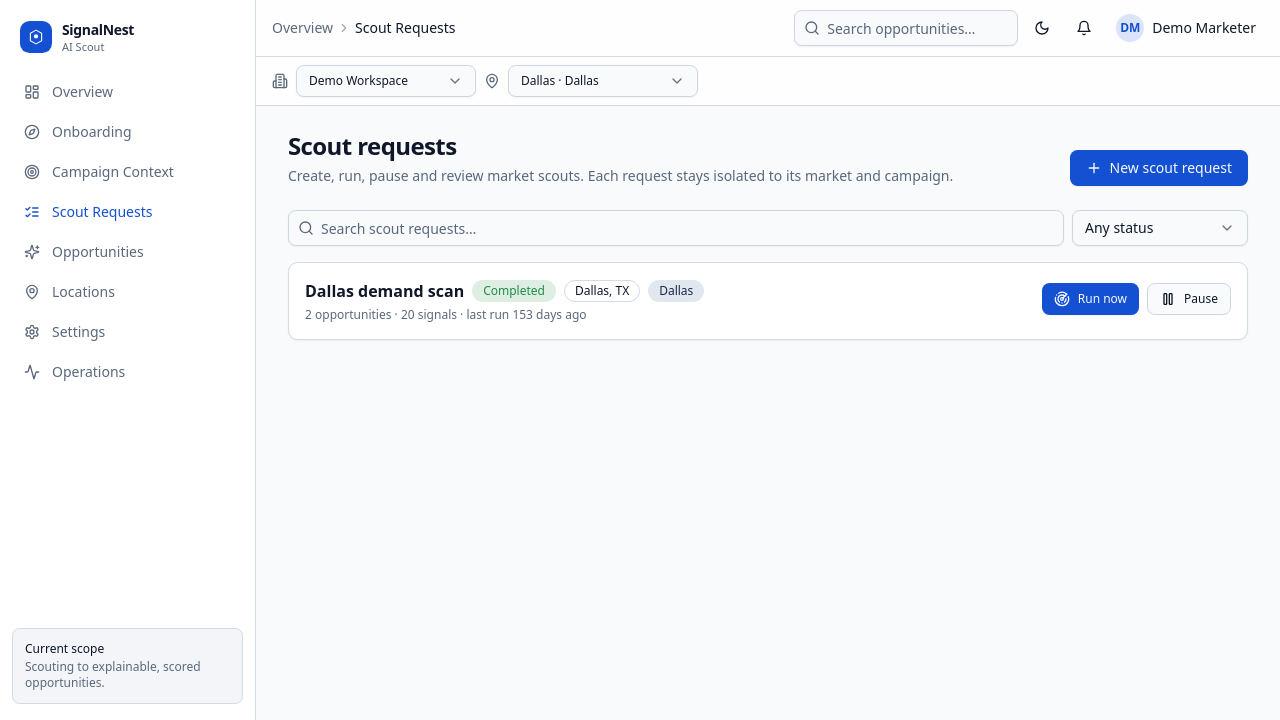
Test case: scout requests › runs a scout and reports that it was queued
Expected: the link "Dallas demand scan" is shown, x1=305 y1=279 x2=464 y2=303
Click the button "Run now" at (1090,299), box x1=1042 y1=283 x2=1139 y2=315
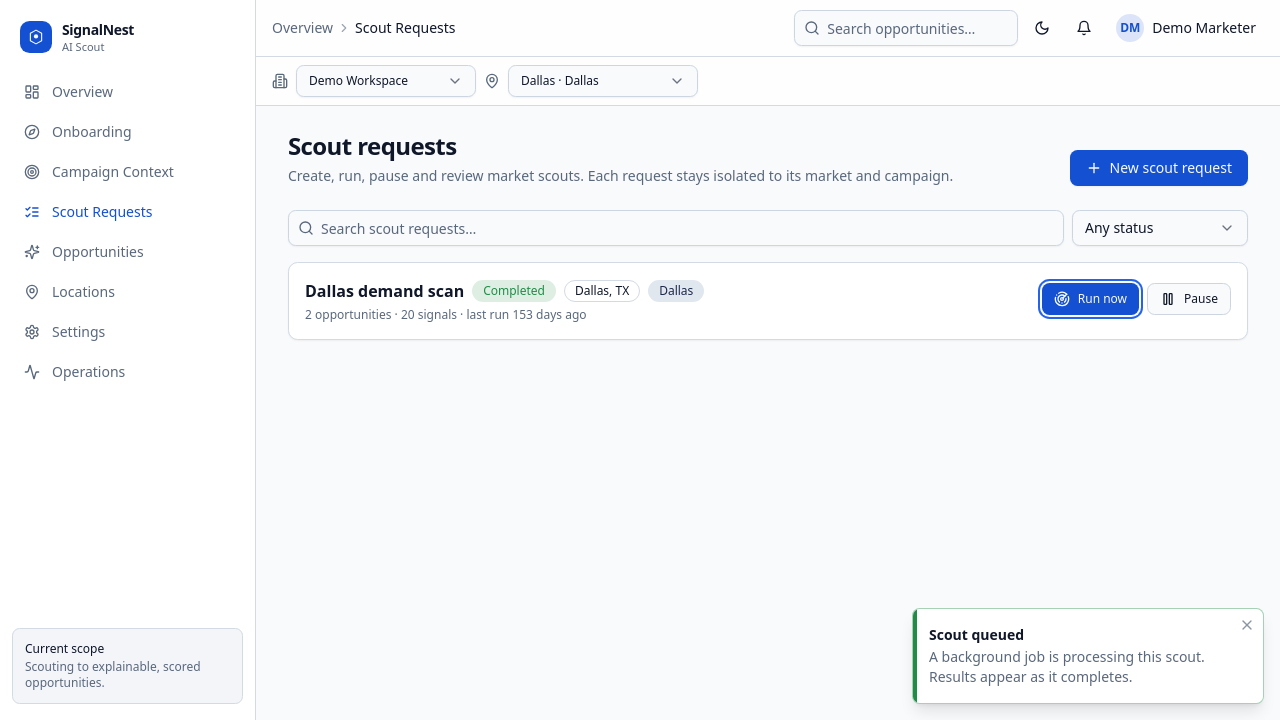
Expected: the text "Scout queued" is shown, x1=929 y1=625 x2=1024 y2=644
